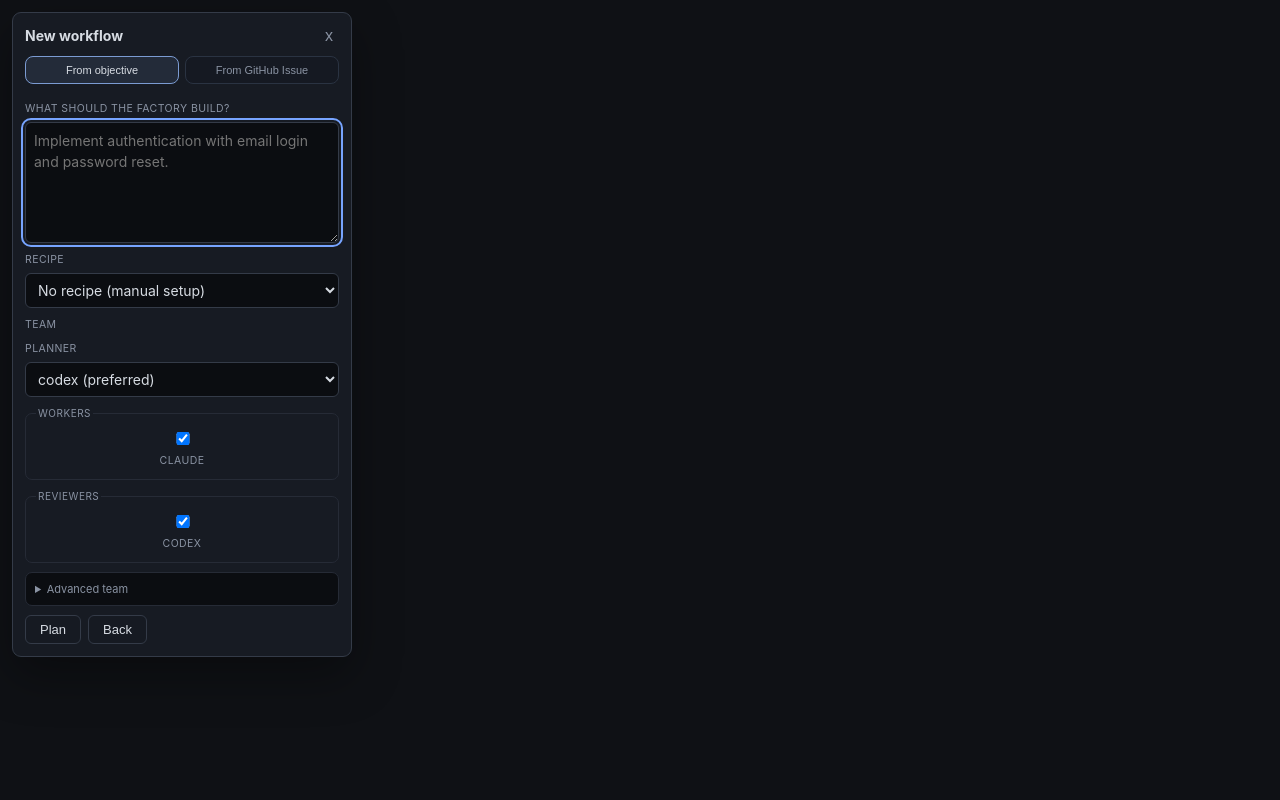
Scenario: Add Node menu › requires an issue reference before planning a GitHub workflow
Click the tab "From GitHub Issue" at (262,70), box 185,56 -> 339,84
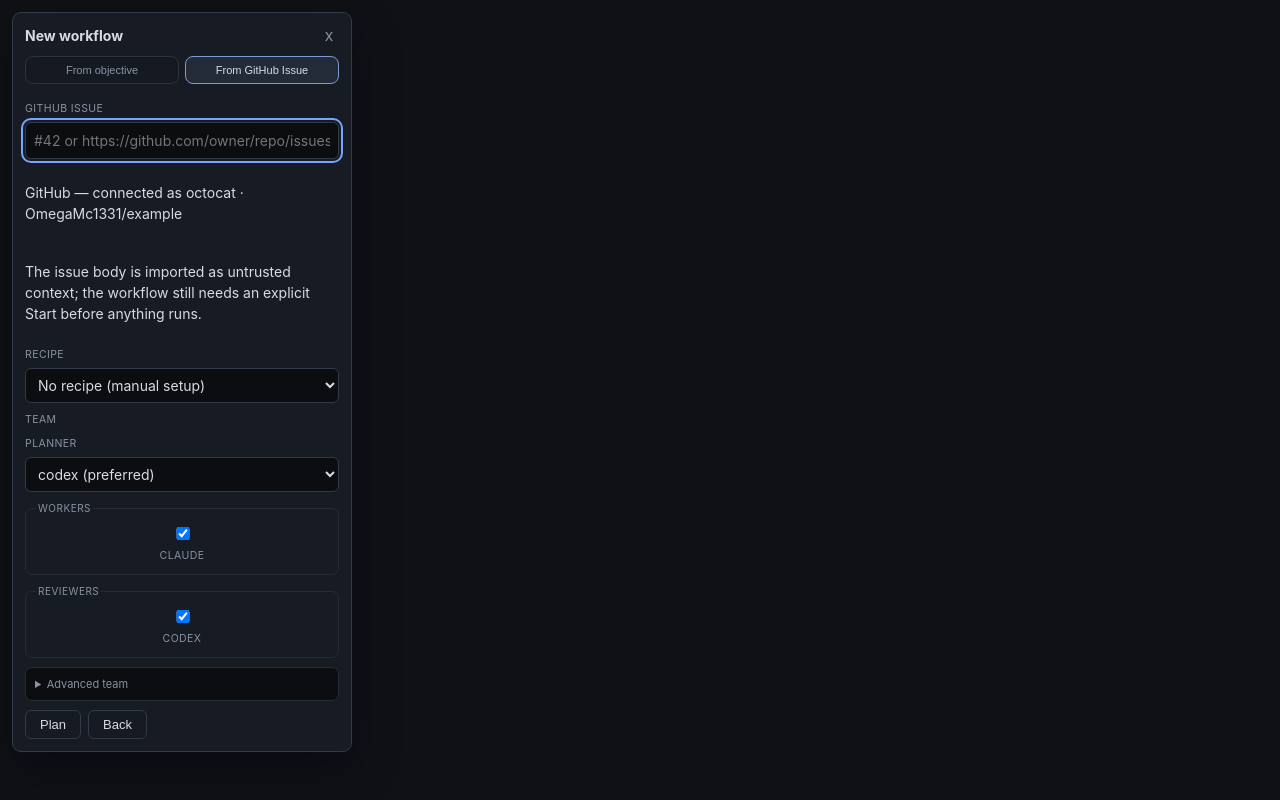
Now the text "GitHub — connected as octocat · OmegaMc1331/example" is shown, box 25,184 -> 244,222
Click the button "Plan" at (53,724), box 25,710 -> 81,739
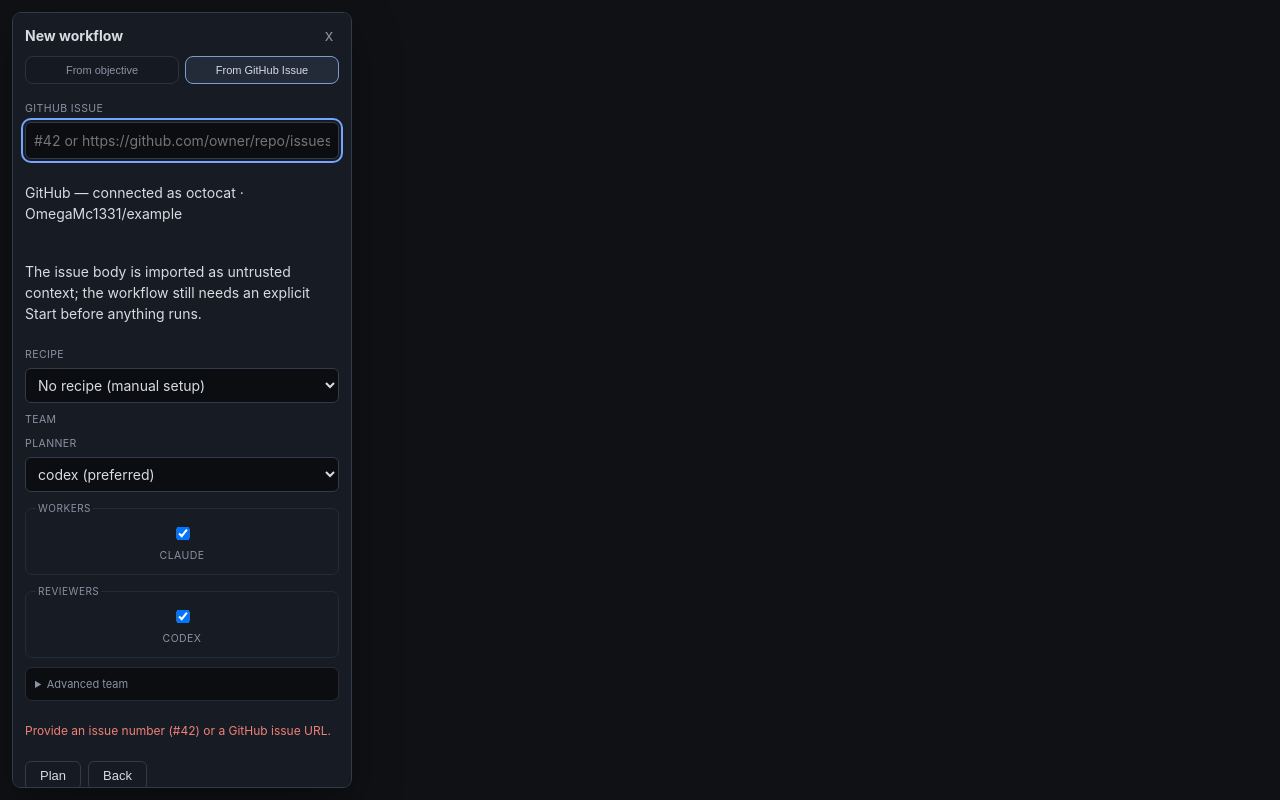
Now the text "Provide an issue number (#42) or a GitHub issue URL." is shown, box 25,722 -> 339,740
